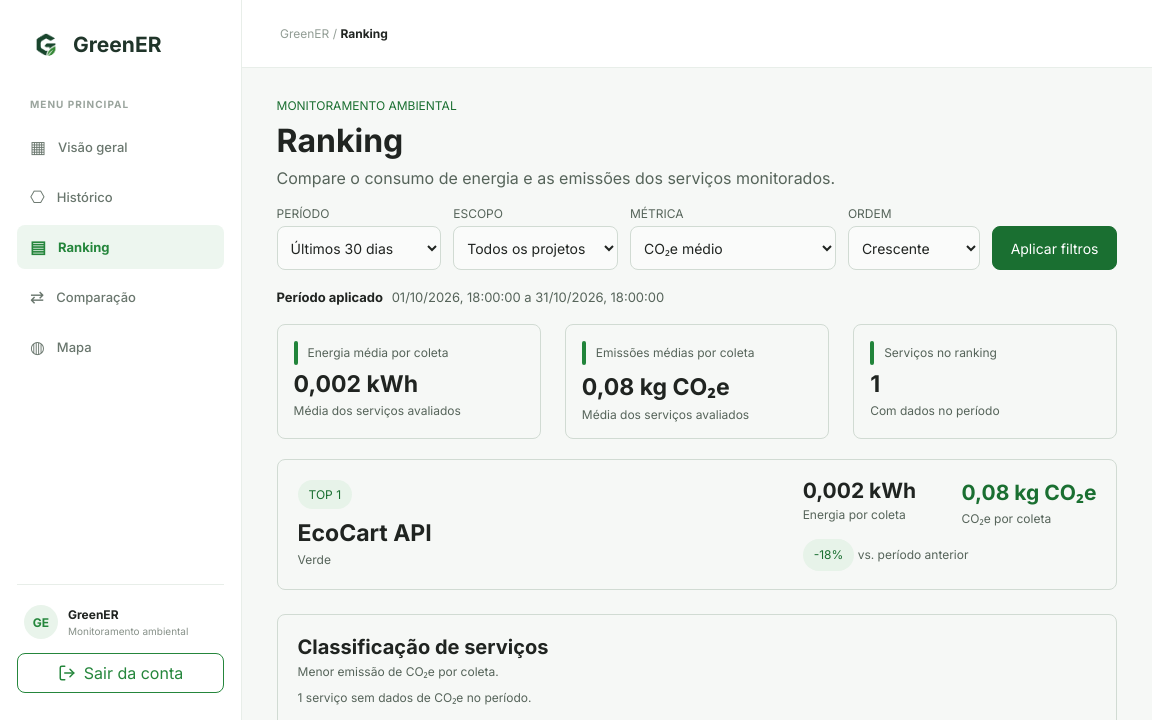
it: consulta os últimos 30 dias na abertura e aplica métrica, ordem e escopo somente após enviar
The image size is (1152, 720).
Expected: the text "1 serviço sem dados de CO₂e no período." is shown, [298,690,531,704]
Select "Energia total" in the dropdown labelled "Métrica" at (733, 248), box [630,226,836,270]
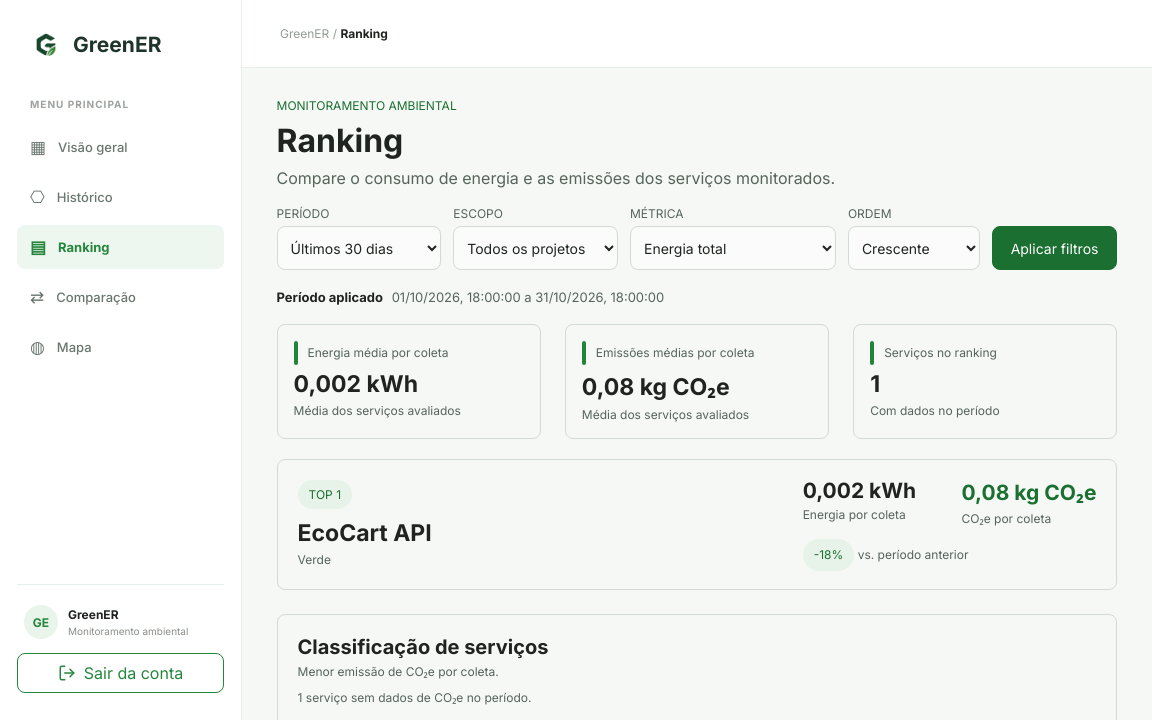
Select "Decrescente" in the dropdown labelled "Ordem" at (914, 248), box [848,226,980,270]
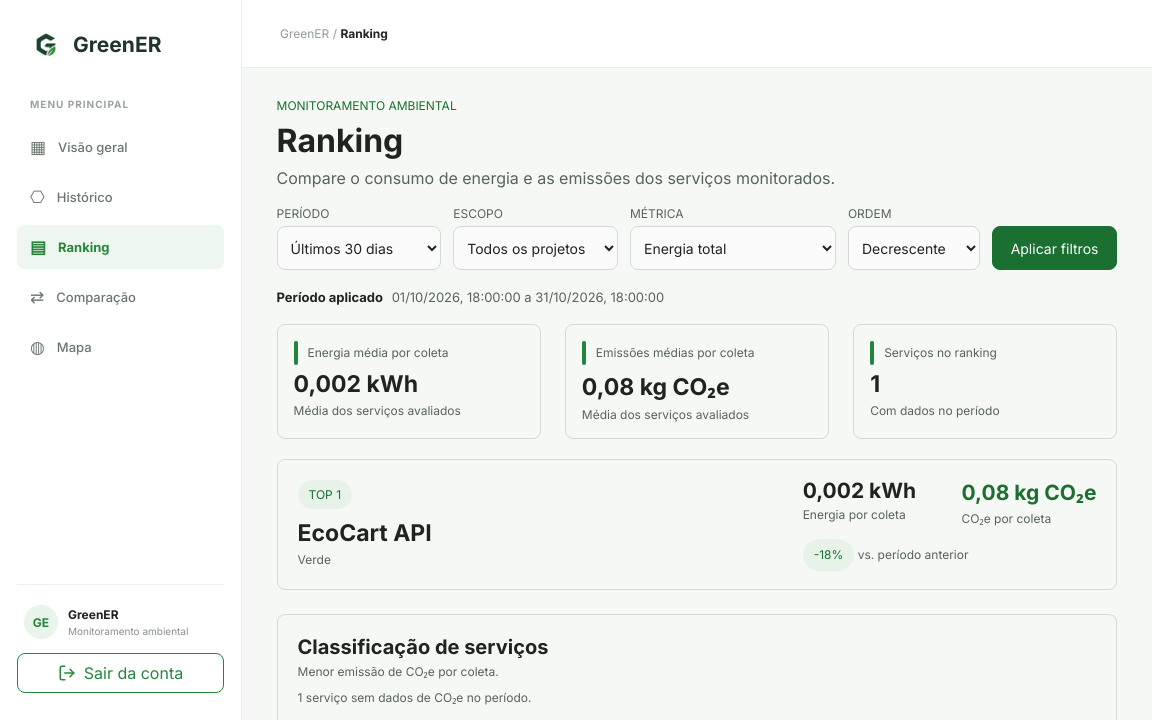
Select "Aurora" in the dropdown labelled "Escopo" at (536, 248), box [453,226,618,270]
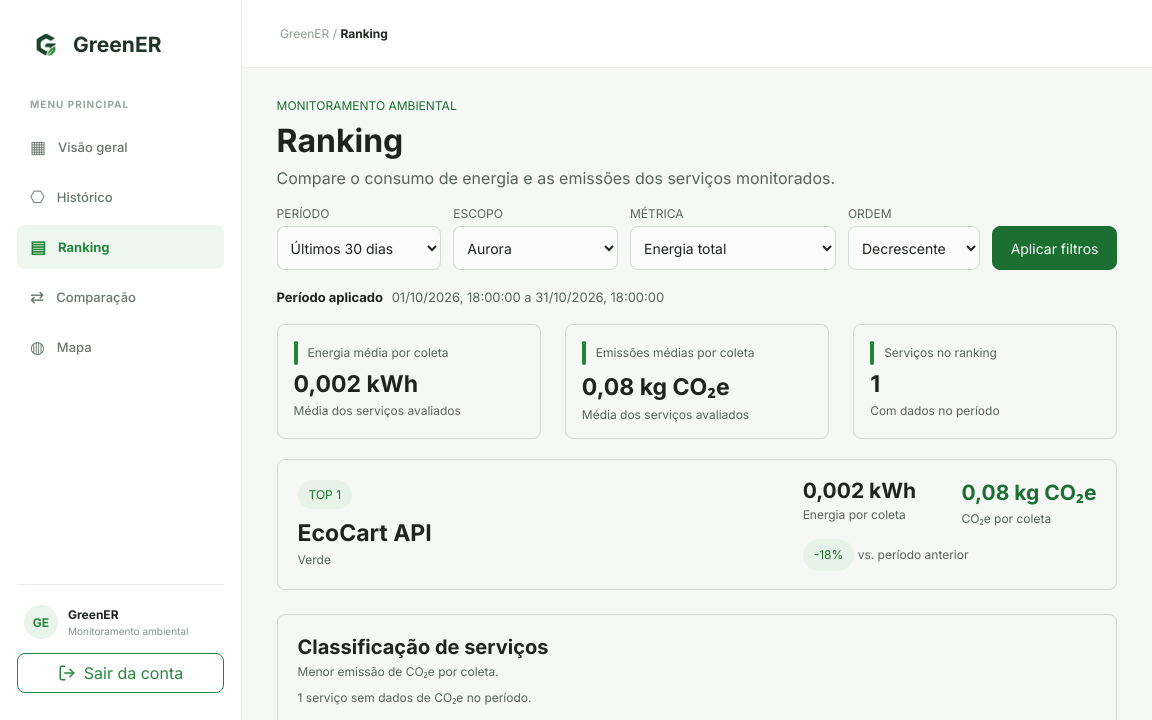
Click the button "Aplicar filtros" at (1054, 248), box [992,226,1117,270]
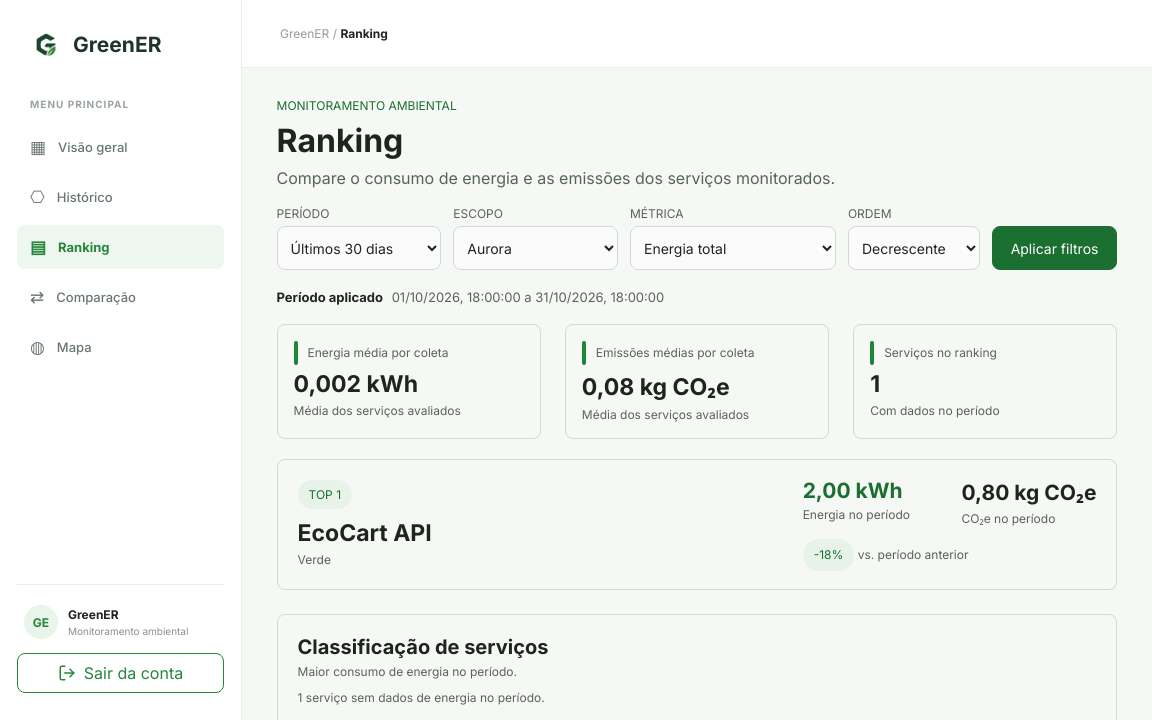
Now the text "Maior consumo de energia no período." is shown, box [298,664,517,678]
